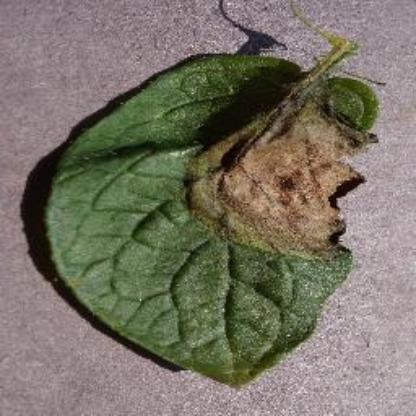Late-Blight: (36, 25, 398, 390)
